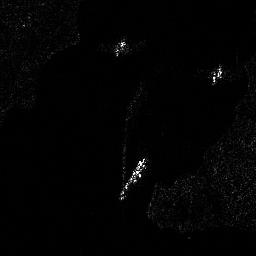ship: (119, 154, 148, 198)
